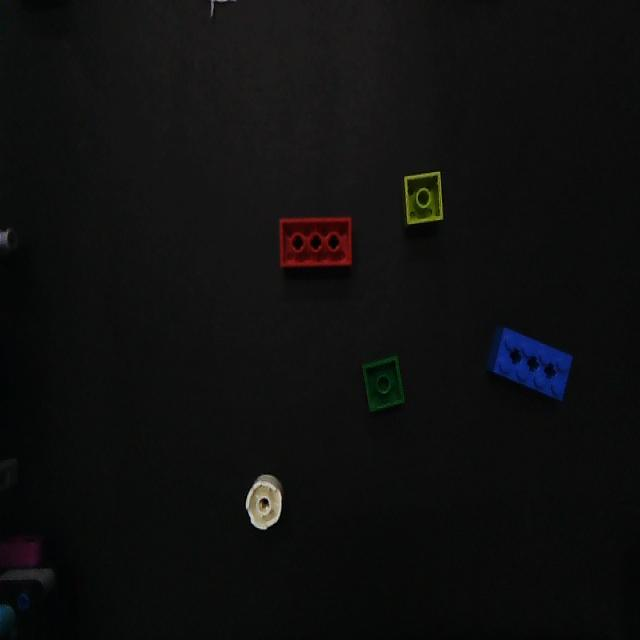lego_brick: (487, 327, 571, 399), (280, 217, 351, 267), (362, 357, 403, 411), (404, 172, 442, 224), (246, 476, 282, 528)
